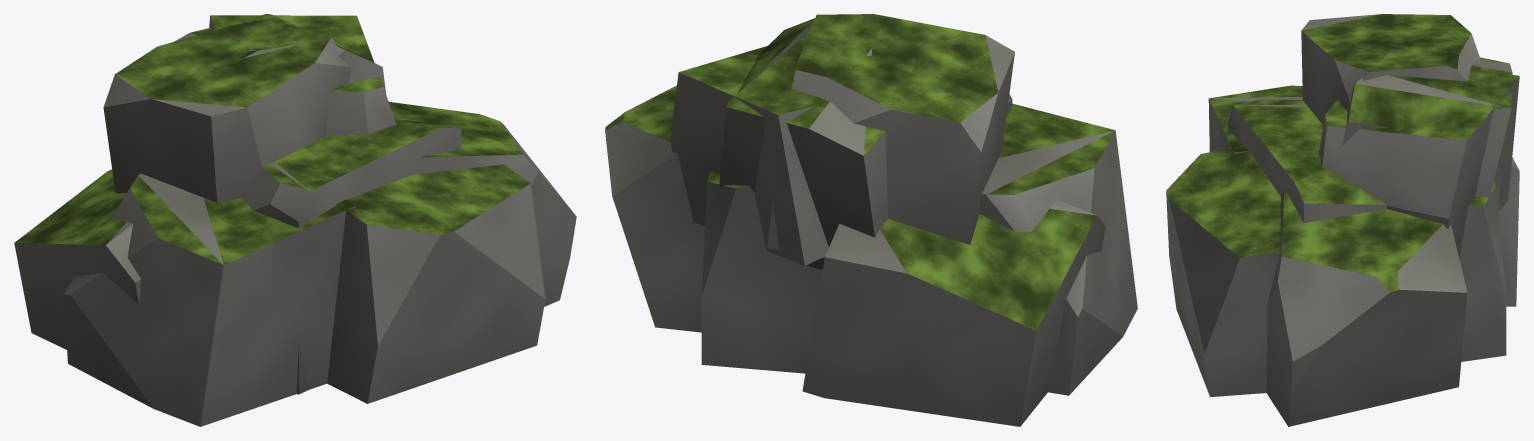
Rendered from Cracked_rock_01.lod2.glb.
3 renders of one model, left to right at view 1: azimuth 30°, elevation 25°; view 2: azimuth 150°, elevation 25°; view 3: azimuth 270°, elevation 25°, orthographic. The views are drawn at different scales.
Parts seen in each view (by area): view 1: Rock; view 2: Rock; view 3: Rock.
Boxes of the visible parts, <box> form: Rock: <box>14,14,576,426</box>; Rock: <box>605,14,1137,426</box>; Rock: <box>1166,14,1519,426</box>.
Bounding box in the file's own units: 3.59 × 2.05 × 2.46.
Materials: 2 (2 with a texture image).
